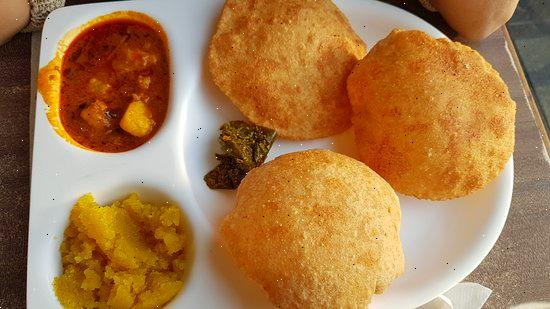puri: (227, 0, 517, 309)
